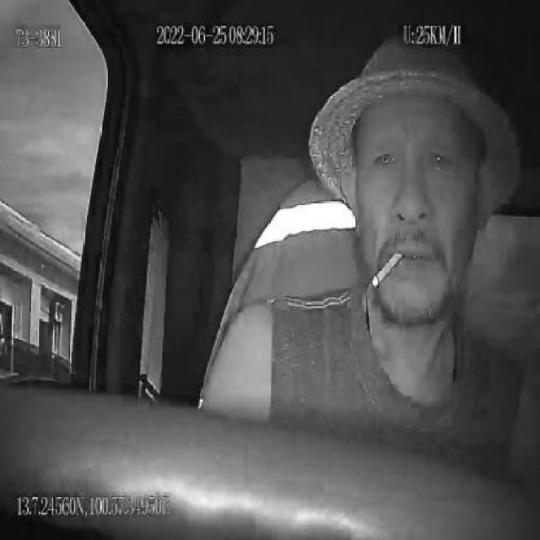smoking: (372, 248, 403, 290)
